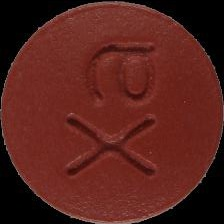55154-1424: (0, 0, 224, 224)
